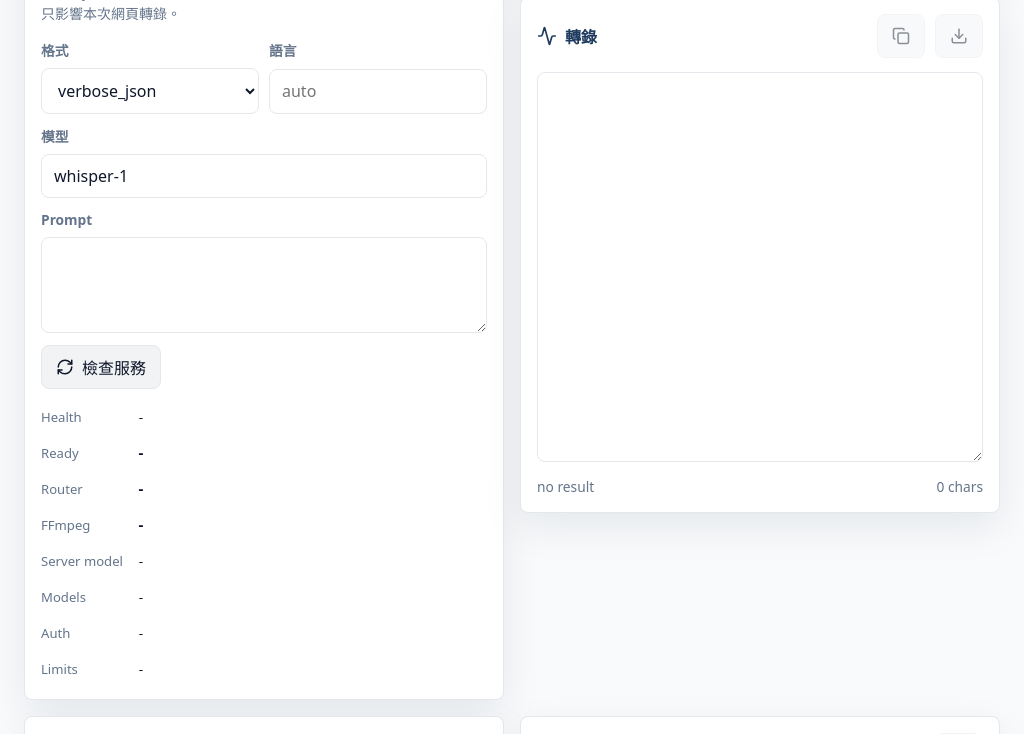
it: App › shows readiness diagnostics after checking the server
(page scrolled)
Click the button "檢查服務".
click(101, 367)  # box [41,345,161,389]
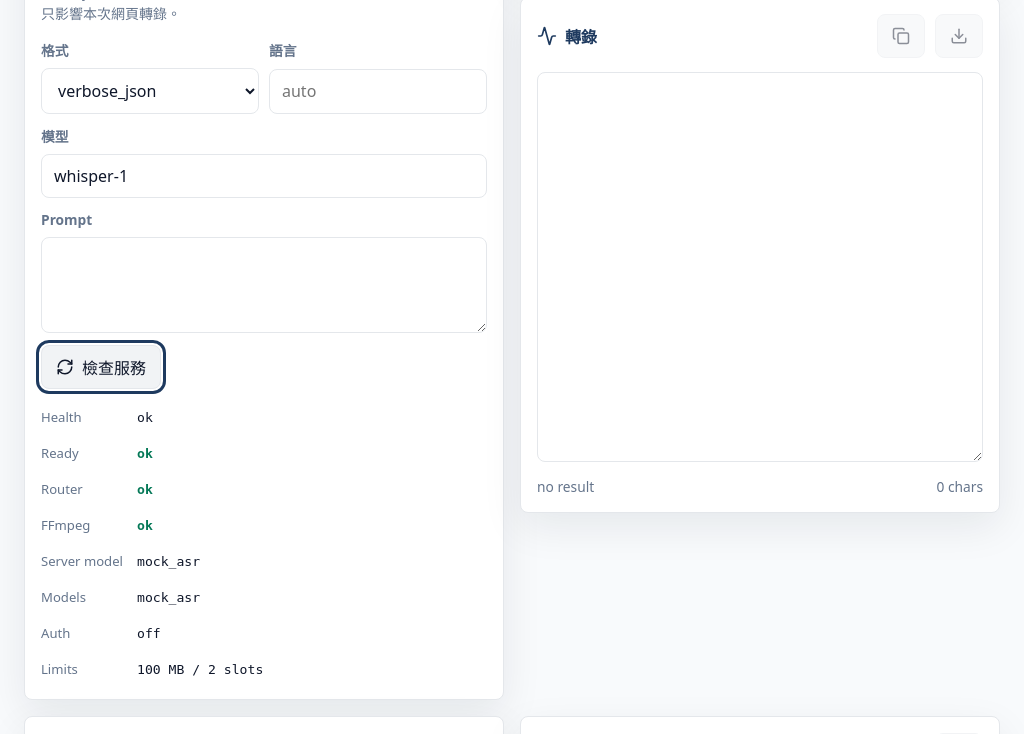
Now the text "100 MB / 2 slots" is shown, box [137,662,263,677]
Now the text "off" is shown, box [137,626,161,641]
